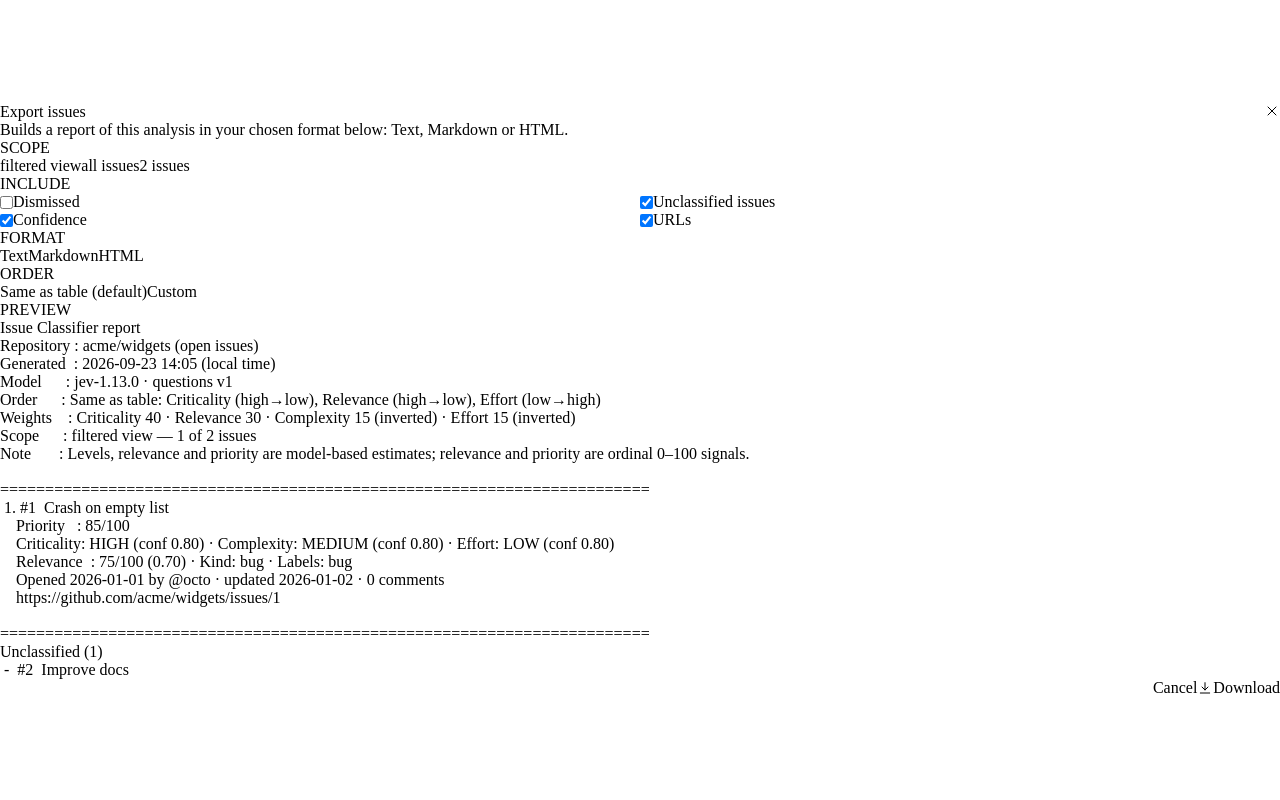
Scenario: ExportContainer › the Format control defaults to Text, and switching to Markdown persists and updates the preview
Click the radio button with test id "segment-markdown": coordinates (63, 256) [28,247,98,265]
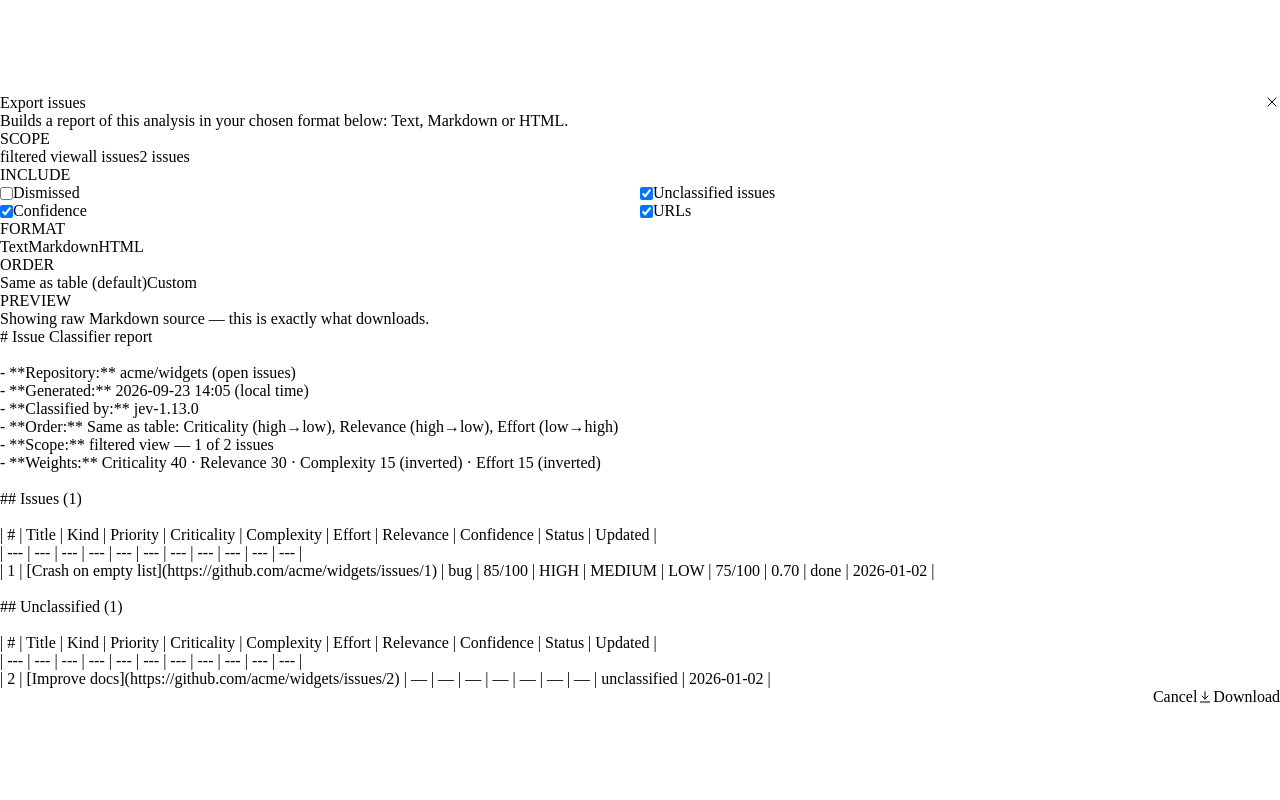
Expected: the text with test id "export-preview-text" shows "# Issue Classifier report", [0,328,934,687]
Expected: the text with test id "export-preview-note" shows "Markdown", [0,310,429,327]
